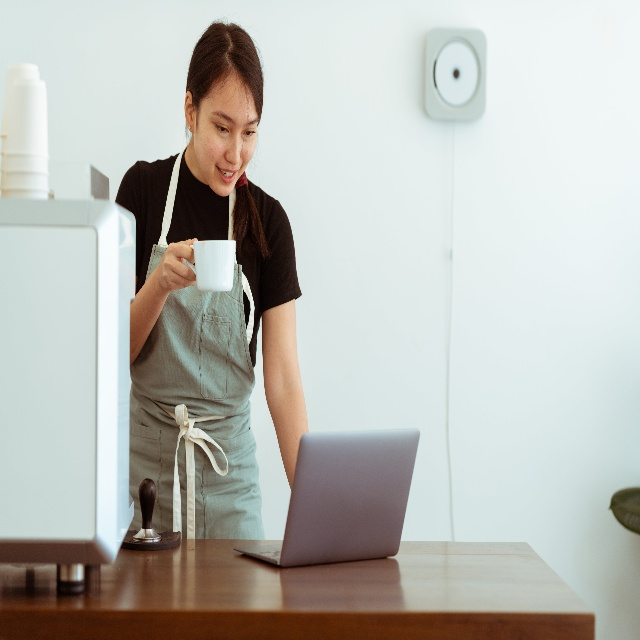Sin_guantes: (159, 239, 198, 289)
